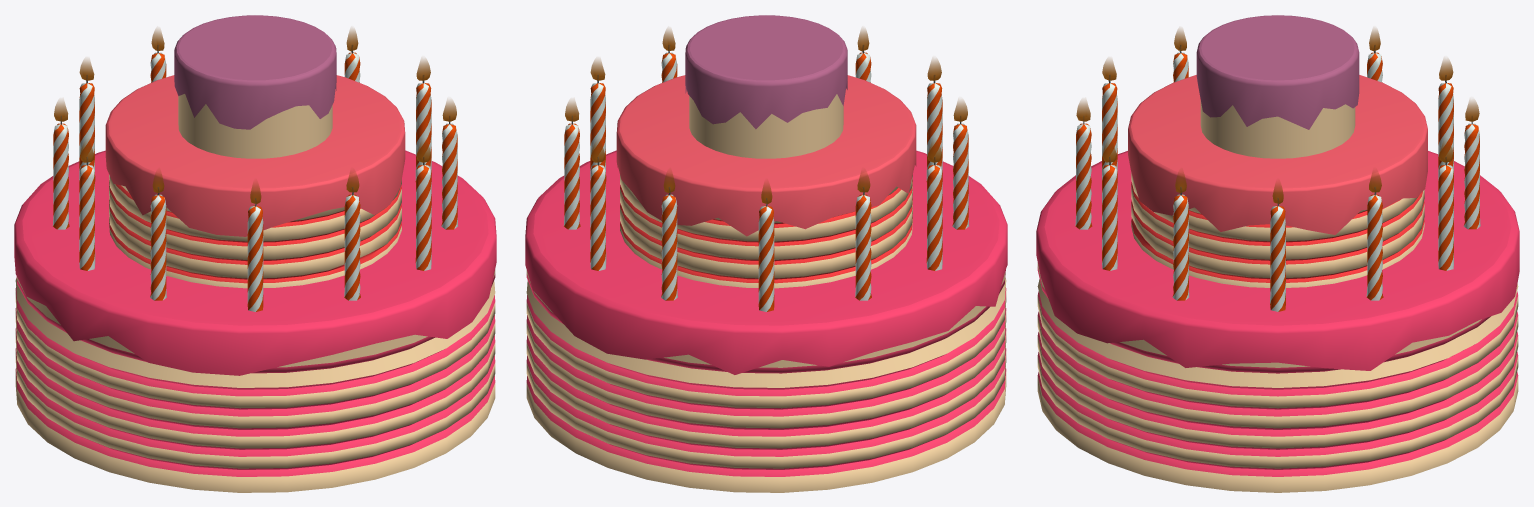
The model's file is cake.glb.
3 renders of one model, left to right at view 1: azimuth 30°, elevation 25°; view 2: azimuth 150°, elevation 25°; view 3: azimuth 270°, elevation 25°, orthographic.
Visible parts, largest first — view 1: cake_base, candle_red.011; view 2: cake_base, candle_red.011; view 3: cake_base, candle_red.011.
Part boxes in pixels (x1,y1,x2,y2): cake_base: (14, 15, 496, 492); candle_red.011: (52, 28, 458, 311); cake_base: (525, 15, 1007, 492); candle_red.011: (563, 28, 969, 311); cake_base: (1036, 15, 1519, 492); candle_red.011: (1075, 28, 1480, 311).
Size of what is drawn, in the model's own units: 10.09 by 7.91 by 10.09.
5 materials, 5 textured.
